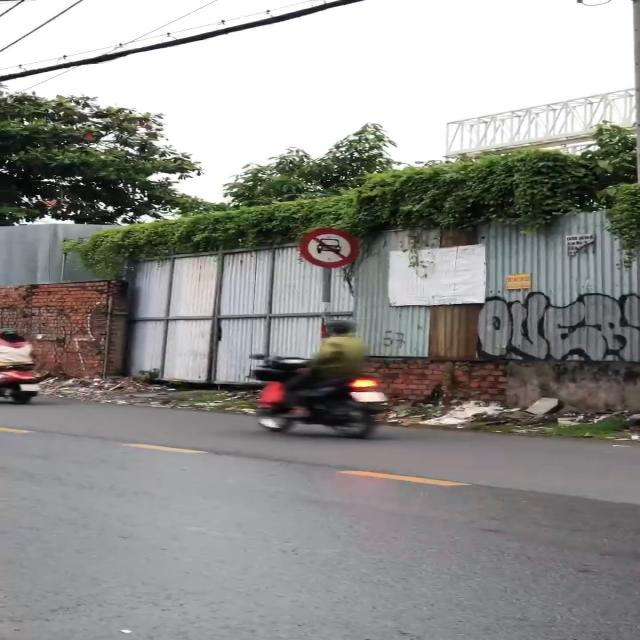Bien bao cam xe oto: (293, 226, 366, 270)
